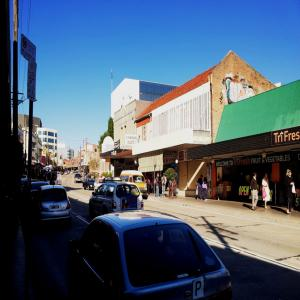Vehicle-registration-plate: (52, 205, 60, 209)
